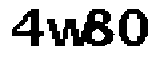0: (118, 8, 149, 49)
4: (9, 6, 45, 47)
8: (89, 9, 115, 50)
w: (45, 16, 88, 47)
